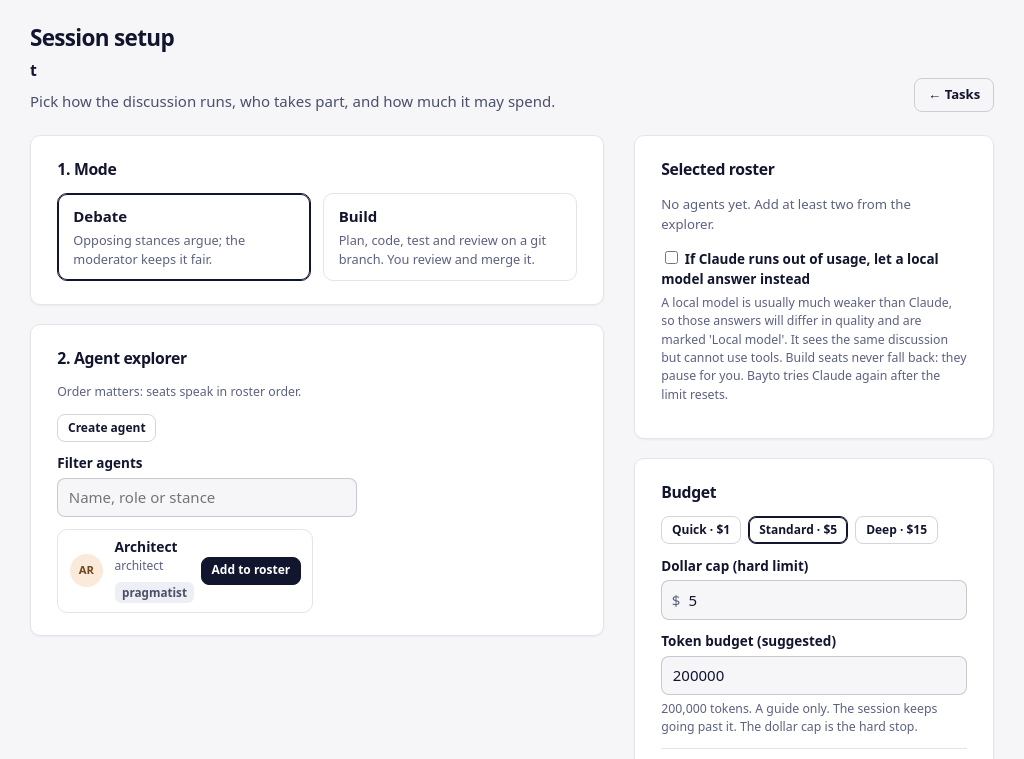
Test: Custom agents on the setup screen › does not offer Create agent in Build, where the four roles are fixed
Expected: the button "Create agent" is shown, top-left (57, 414), bottom-right (156, 442)
What coordinates should you click on to do the following:
click the radio button labelled "Build"
I would click on:
 (450, 237)
Its box is top-left (323, 193), bottom-right (577, 281).
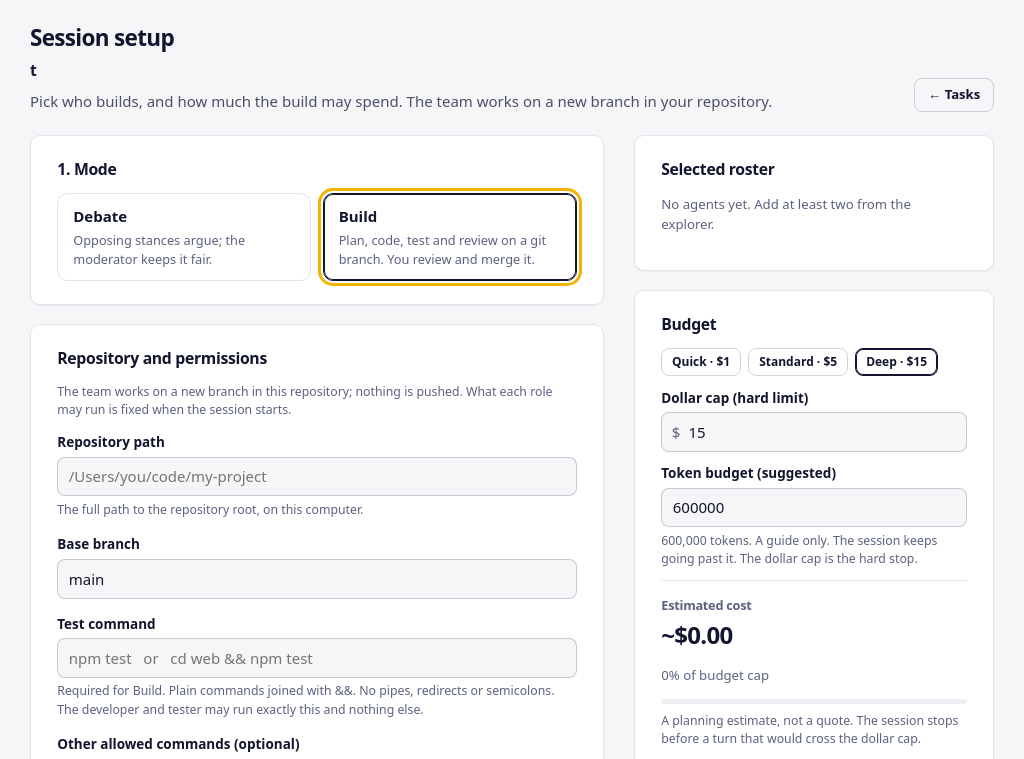
Expected: the button "Create agent" is gone
